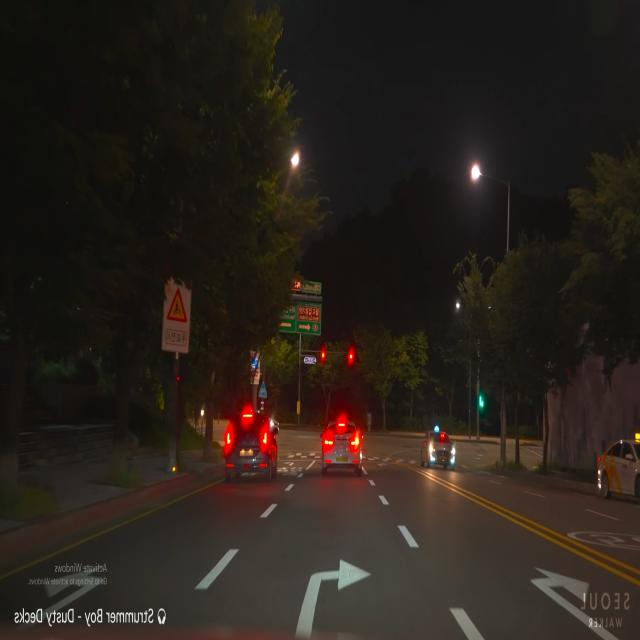headlights: (425, 440, 459, 469)
